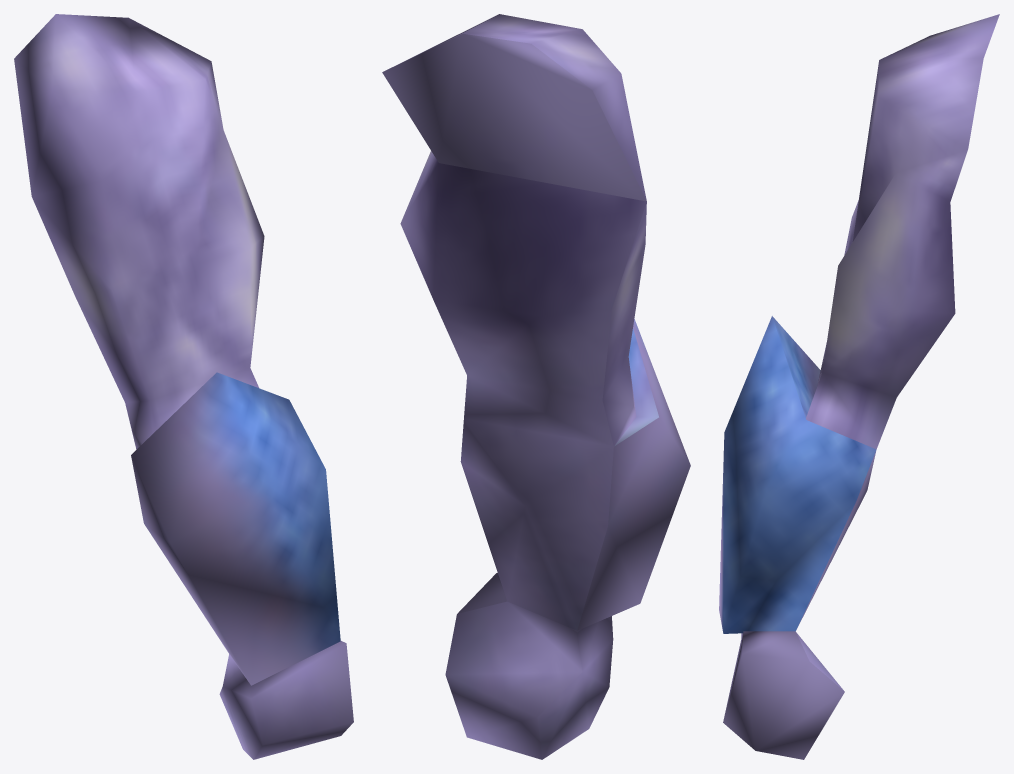
File: rightarm.gltf
3 views of the same model, side by side, from view 1: azimuth 30°, elevation 25°; view 2: azimuth 150°, elevation 25°; view 3: azimuth 270°, elevation 25° (orthographic). The views are drawn at different scales.
Visible parts, largest first — view 1: Mesh_0; view 2: Mesh_0; view 3: Mesh_0.
Boxes of the visible parts, bbox=[...] form: Mesh_0: bbox=[14, 14, 353, 759]; Mesh_0: bbox=[382, 14, 690, 759]; Mesh_0: bbox=[719, 14, 999, 759].
Bounding box in the file's own units: 0.2486 × 0.7374 × 0.2783.
1 material, 1 textured.
